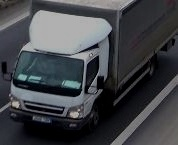truck: (2, 0, 178, 134)
